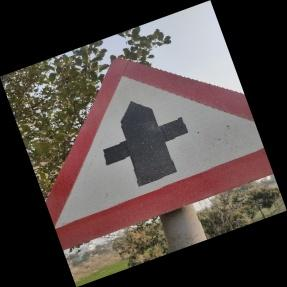Crossroad: (44, 48, 276, 250)
